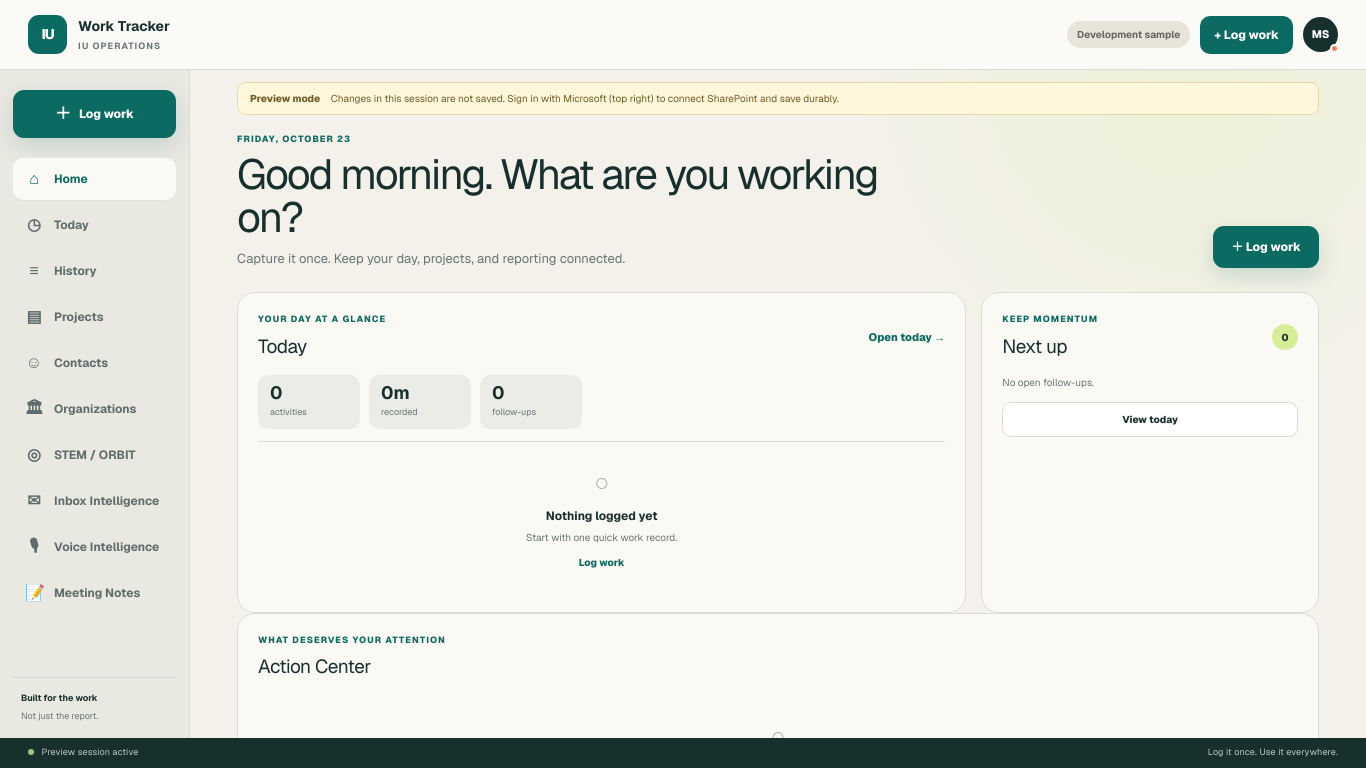
Test: Opening Contact Detail › back navigation returns to the directory
Click the button "☺ Contacts": (94, 363) [13,342,176,384]
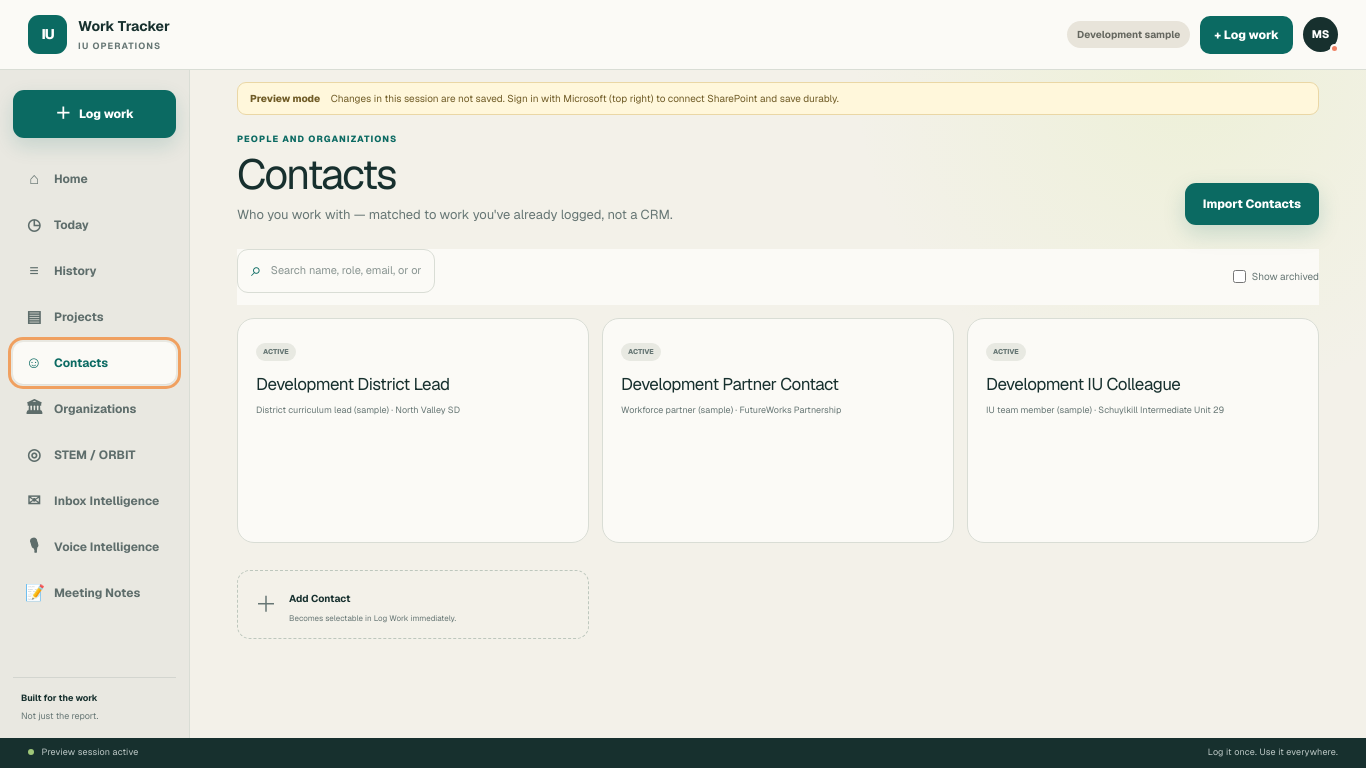
Click the button "Development Partner Contact": (778, 377) [621,337,935,417]
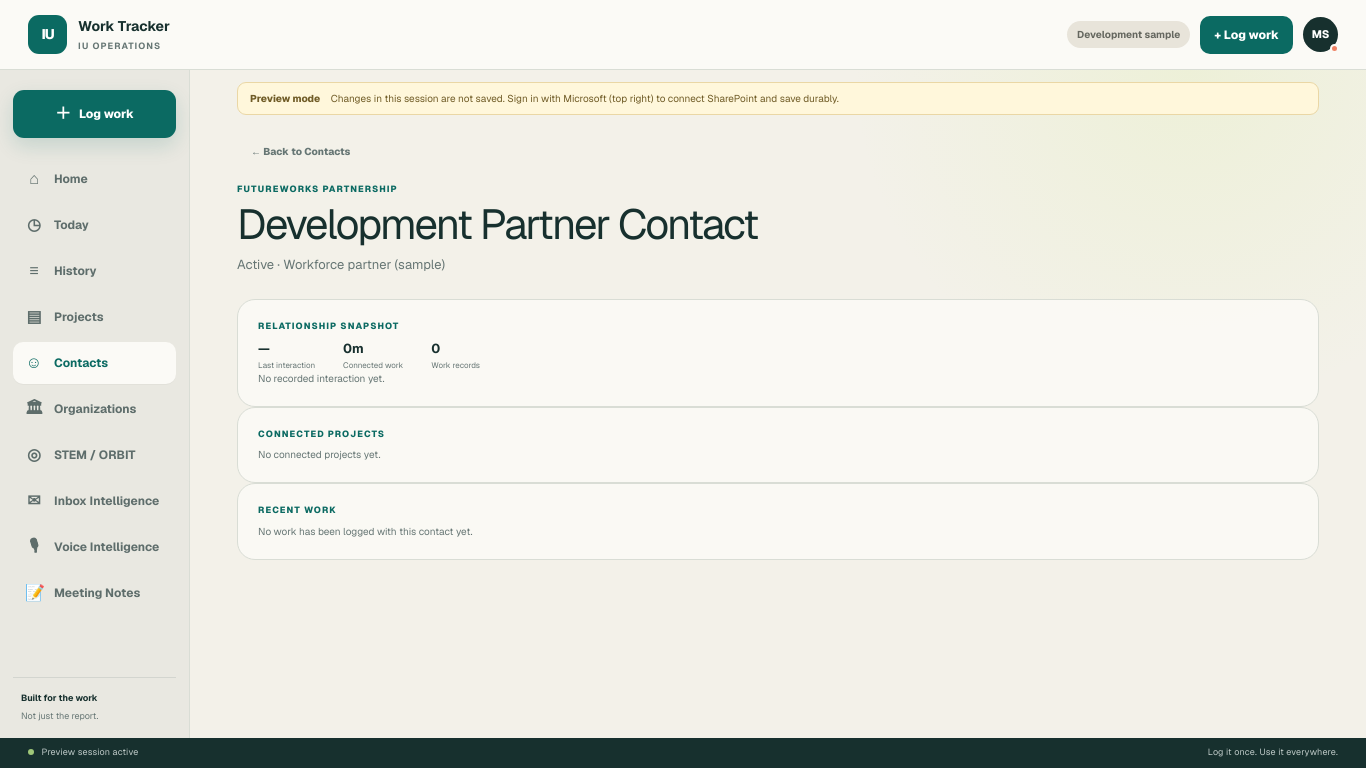
Click the button "← Back to Contacts": (301, 152) [237,133,364,170]
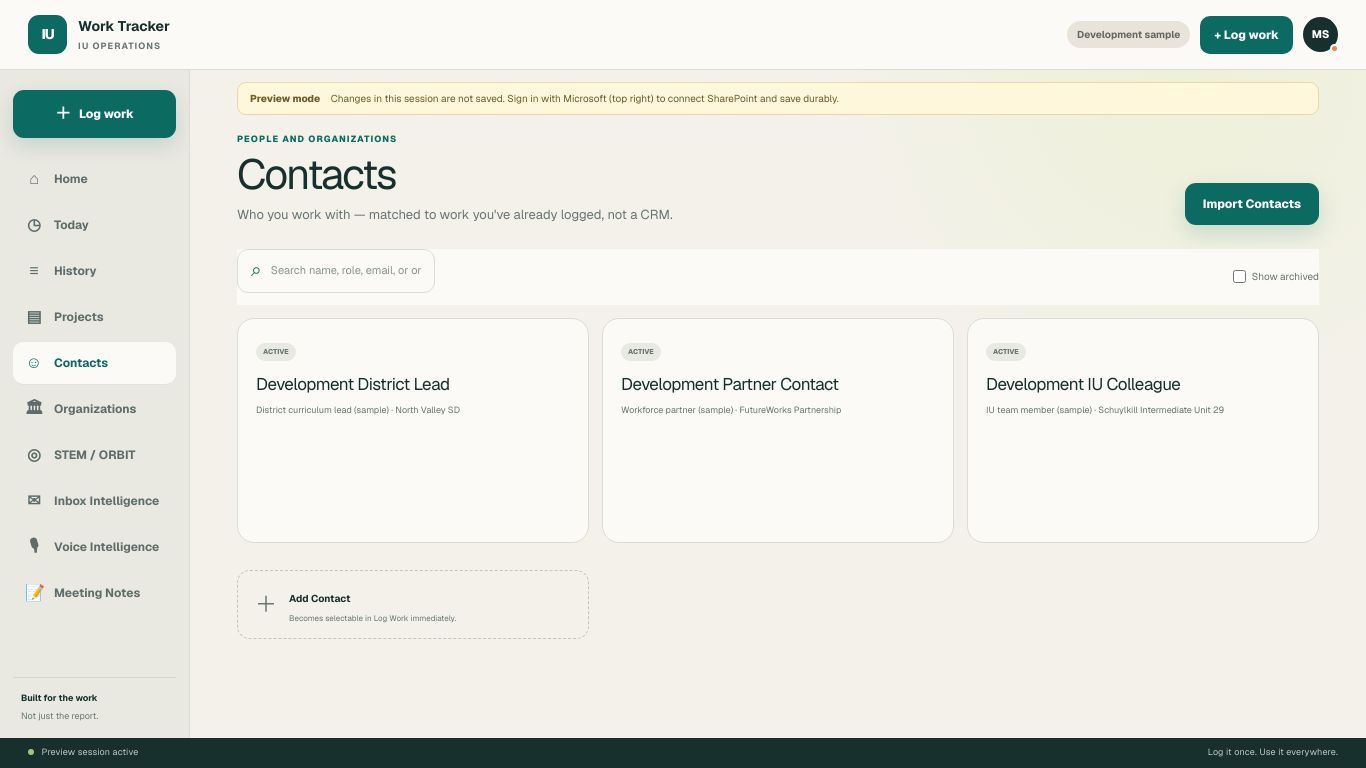
Expected: the heading "Contacts" is shown, [237,146,396,200]
Expected: the heading "Development District Lead" is shown, [256,373,450,395]
